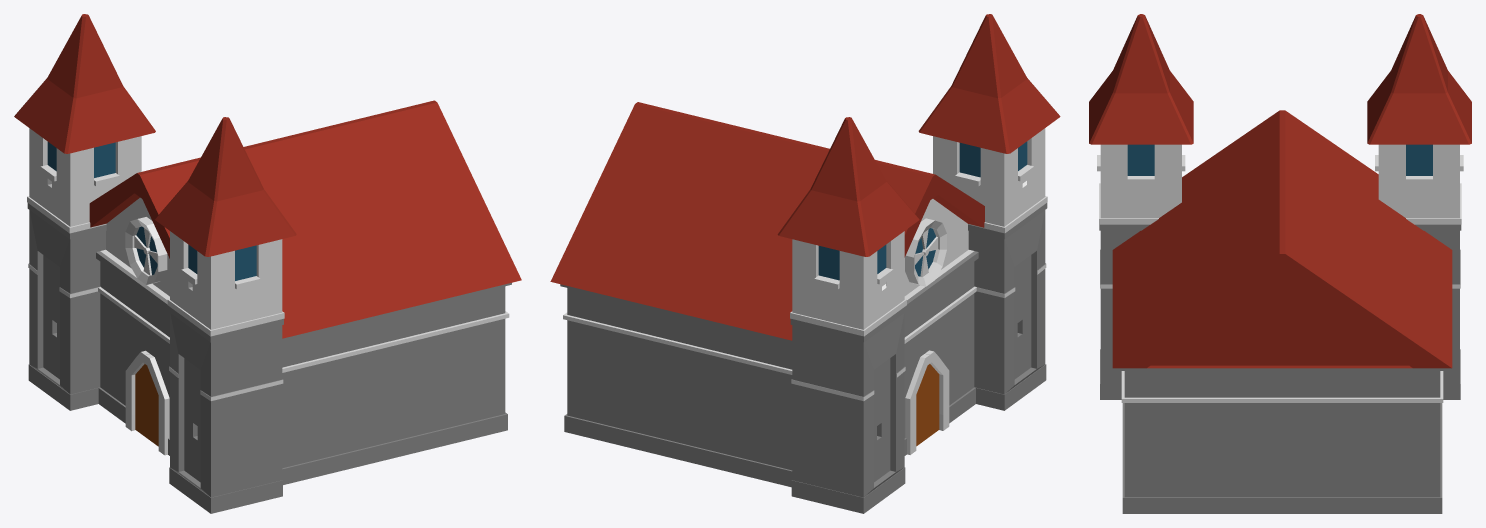
Rendered from tile0009.gltf.
3 renders of one model, left to right at view 1: azimuth 30°, elevation 25°; view 2: azimuth 150°, elevation 25°; view 3: azimuth 270°, elevation 25°, orthographic.
Parts seen in each view (by area): view 1: Cube.006, Cube.001, Cube.002, Cube.004, Cube.005, Cube.003, Cylinder, Cube.007; view 2: Cube.006, Cube.001, Cube.004, Cube.002, Cube.003, Cube.005, Cylinder, Cube.007; view 3: Cube.006, Cube.001, Cube.002, Cube.003, Cube.005, Cube.004.
Part boxes in pixels (x1,y1,x2,y2): Cube.006: (89, 100, 521, 338); Cube.001: (96, 249, 511, 484); Cube.002: (167, 231, 284, 513); Cube.004: (27, 128, 141, 410); Cube.005: (14, 14, 155, 153); Cube.003: (155, 117, 296, 256); Cylinder: (125, 217, 167, 284); Cube.007: (135, 364, 158, 446); Cube.006: (550, 102, 984, 340); Cube.001: (560, 250, 978, 487); Cube.004: (790, 231, 906, 513); Cube.002: (933, 128, 1047, 410); Cube.003: (918, 14, 1060, 153); Cube.005: (777, 117, 919, 256); Cylinder: (905, 218, 946, 286); Cube.007: (916, 364, 939, 446); Cube.006: (1112, 110, 1452, 368); Cube.001: (1120, 368, 1444, 513); Cube.002: (1097, 144, 1185, 399); Cube.003: (1089, 14, 1193, 144); Cube.005: (1367, 14, 1471, 144); Cube.004: (1375, 144, 1463, 399).
Bounding box in the file's own units: 1.58 × 1.71 × 1.62.
